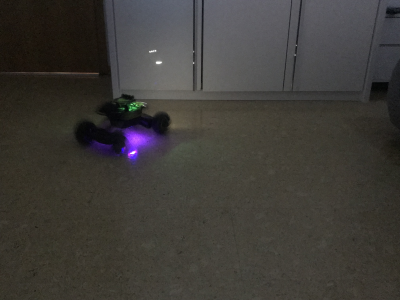remote control car: (69, 90, 175, 158)
